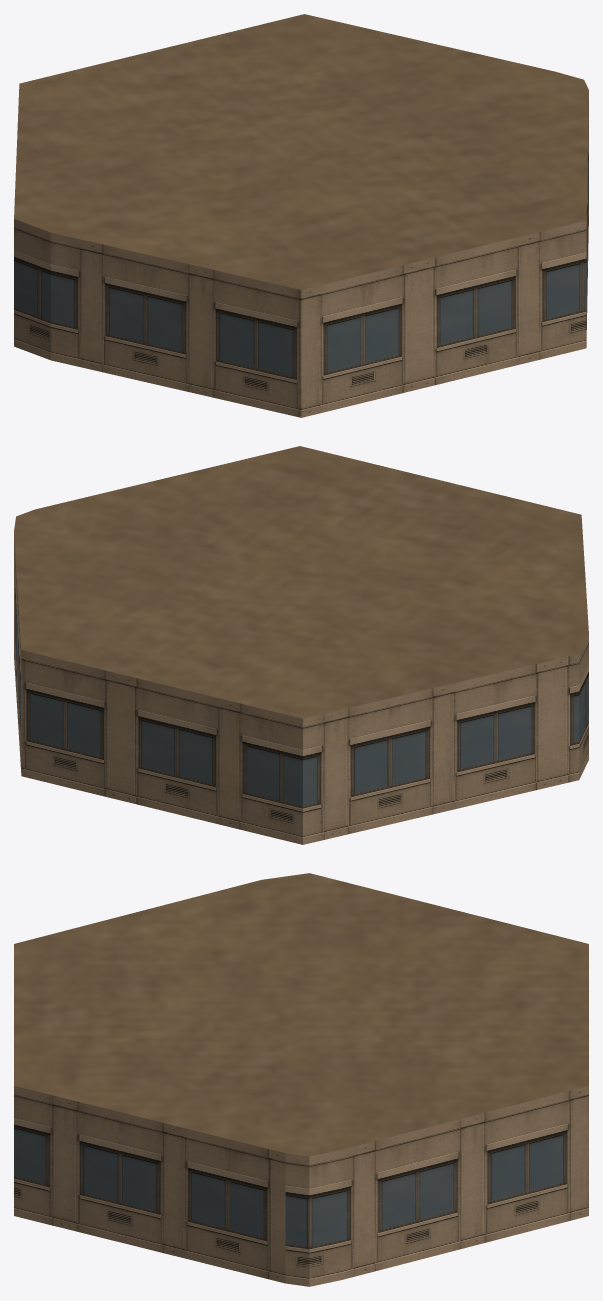
Rendered from light_roof63.glb.
3 views of the same model, one above another, from view 1: azimuth 30°, elevation 25°; view 2: azimuth 150°, elevation 25°; view 3: azimuth 270°, elevation 25° (orthographic). The views are drawn at different scales.
Parts seen in each view (by area): view 1: buildings/saxarba/light/light_roof63; view 2: buildings/saxarba/light/light_roof63; view 3: buildings/saxarba/light/light_roof63.
Part boxes in pixels (x1,y1,x2,y2): buildings/saxarba/light/light_roof63: (14, 14, 588, 417); buildings/saxarba/light/light_roof63: (14, 446, 588, 844); buildings/saxarba/light/light_roof63: (14, 873, 588, 1286).
Bounding box in the file's own units: 84 × 18 × 72.
